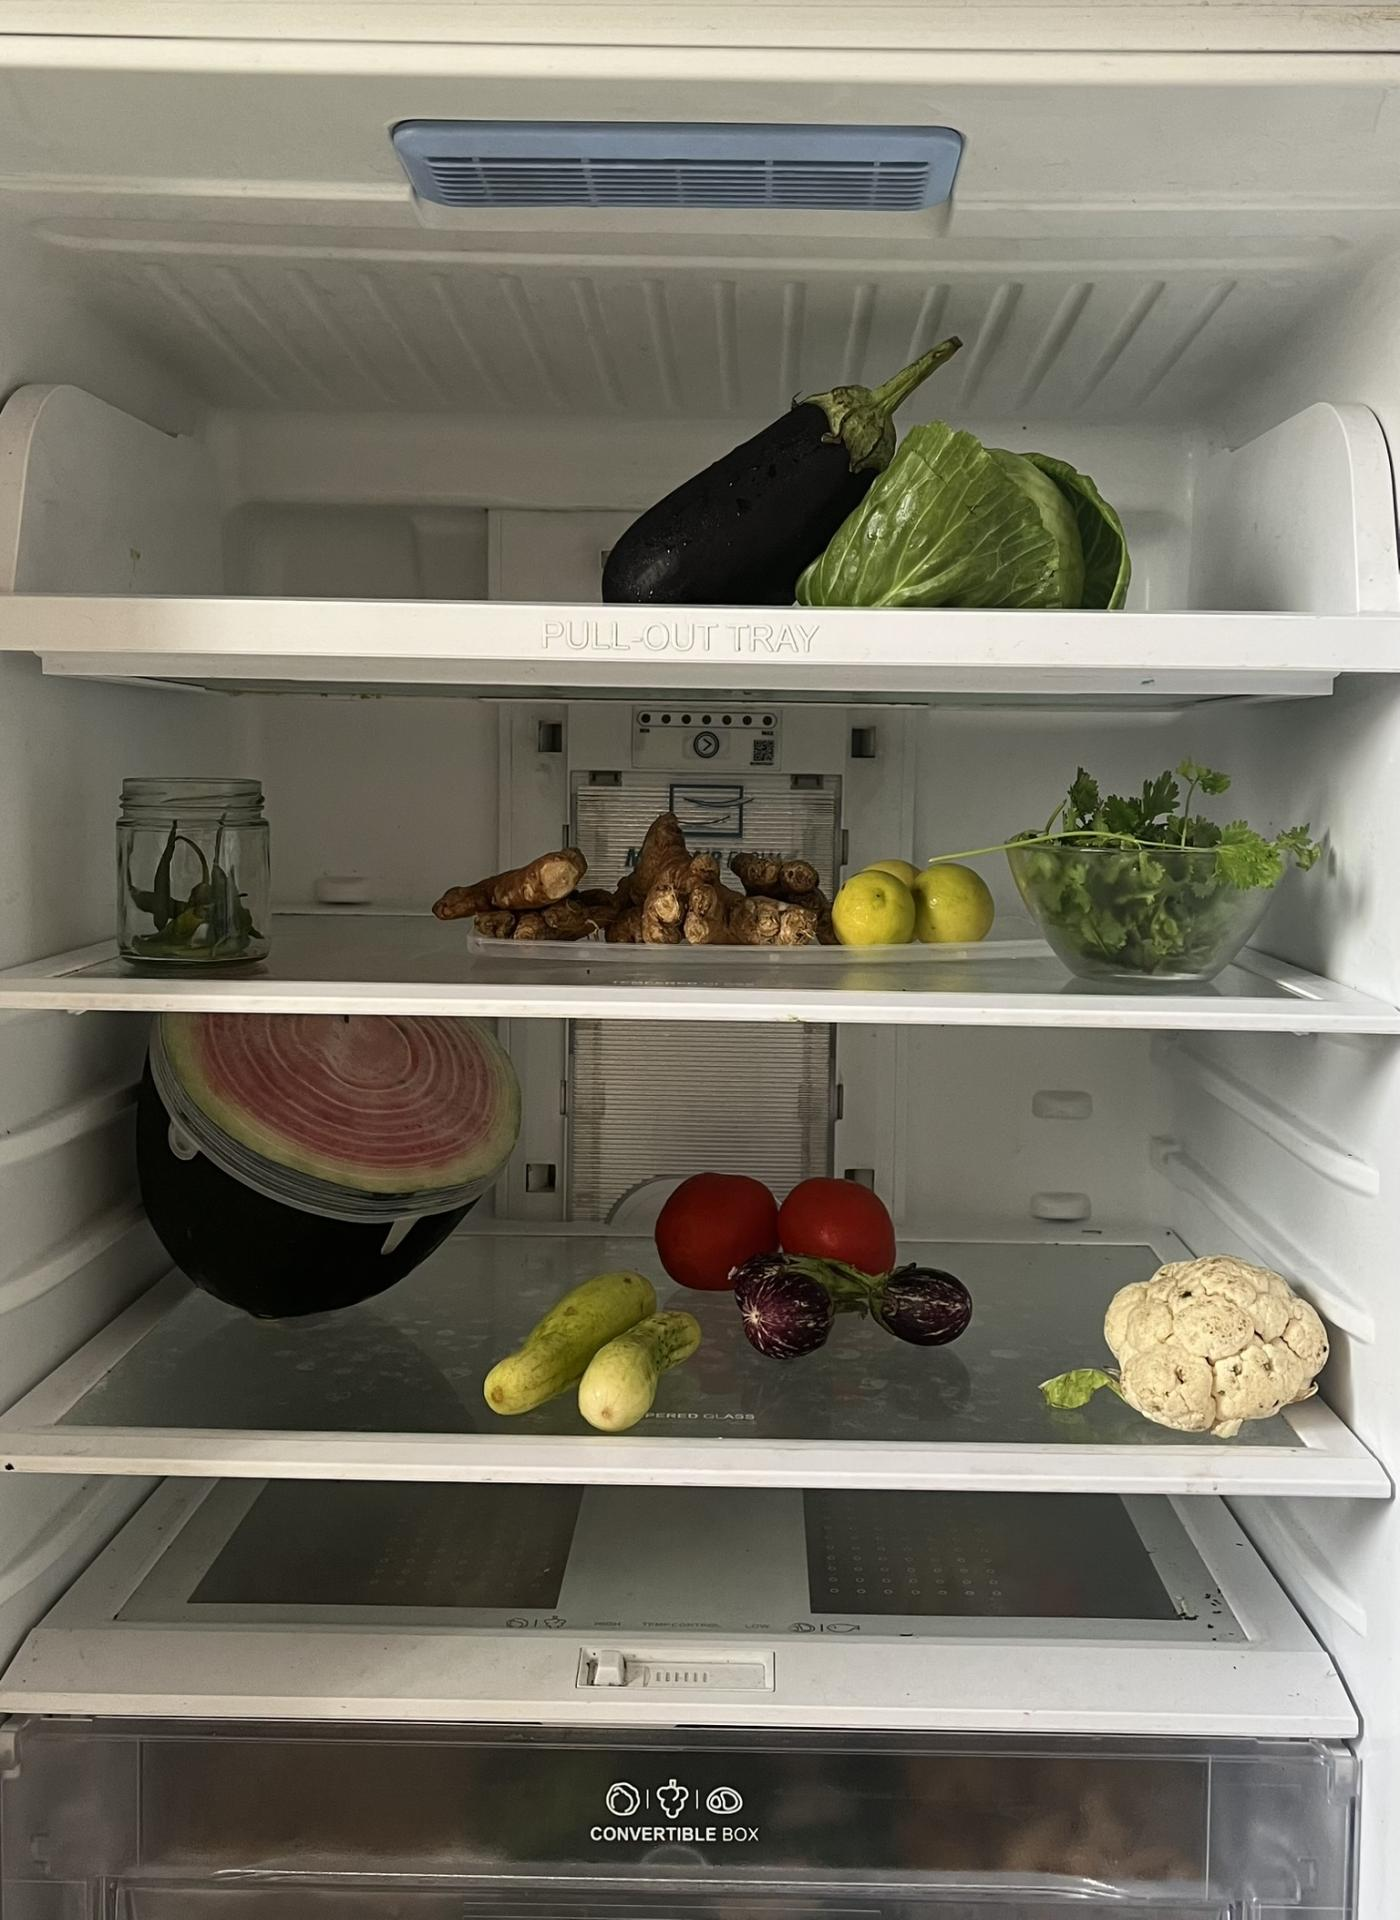cabbage: (826, 447, 1121, 604)
cauliflower: (1109, 1260, 1340, 1434)
chillies: (119, 809, 255, 972)
coriander: (1036, 763, 1309, 981)
cucumber: (483, 1260, 702, 1425)
ginger: (434, 821, 832, 944)
lemon: (829, 856, 1002, 950)
tomato: (662, 1163, 890, 1288)
watermelon: (140, 1018, 507, 1325)
